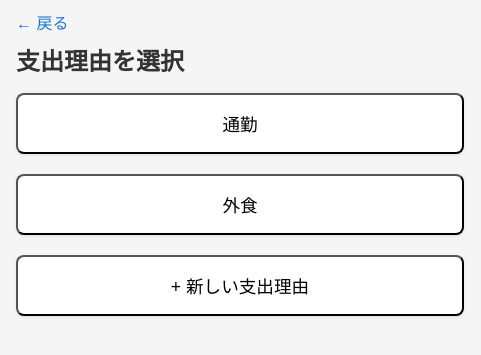
Test case: TagSelect › 取消ボタンで入力欄を閉じる
Click the button "+ 新しい支出理由" at (240, 286), box x1=16 y1=255 x2=464 y2=316
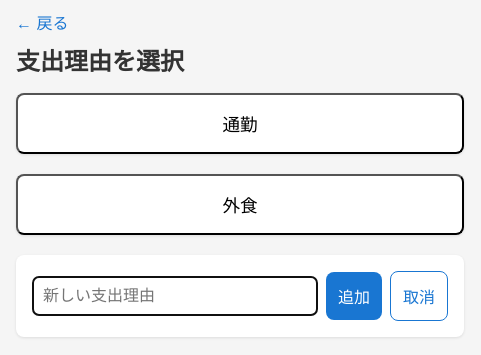
Click the button "取消" at (419, 296), box x1=390 y1=271 x2=448 y2=321
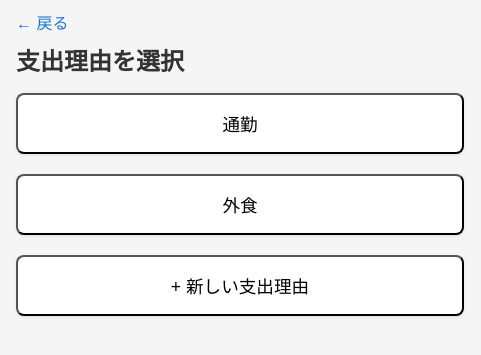
Expected: the button "+ 新しい支出理由" is shown, x1=16 y1=255 x2=464 y2=316
